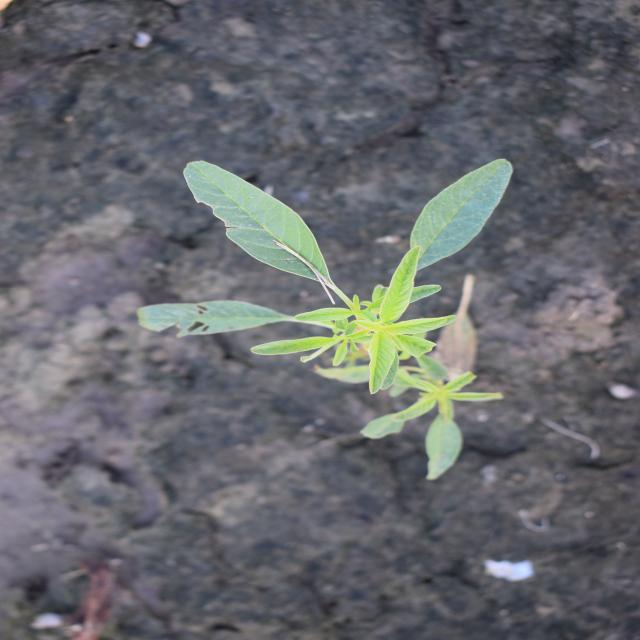Waterhemp: (131, 155, 516, 483)
